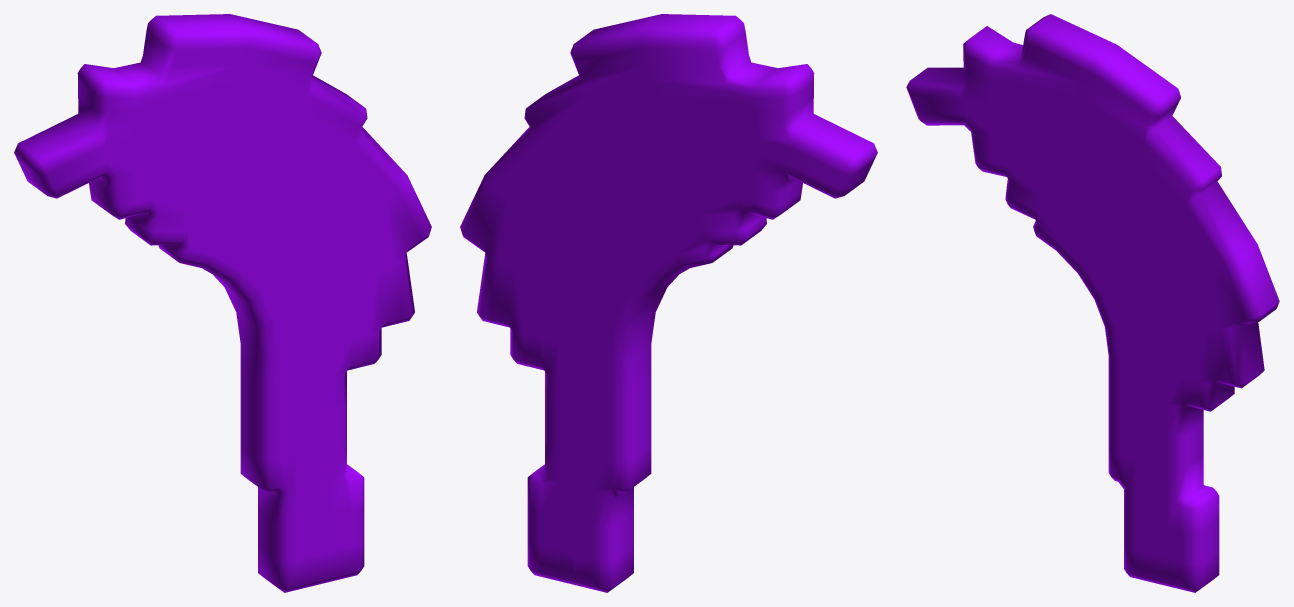
The model's file is OpticalPuzzle_4.FBX.
3 renders of one model, left to right at view 1: azimuth 30°, elevation 25°; view 2: azimuth 150°, elevation 25°; view 3: azimuth 330°, elevation 25°, orthographic. The views are drawn at different scales.
Visible parts, largest first — view 1: OpticalPuzzle_4; view 2: OpticalPuzzle_4; view 3: OpticalPuzzle_4.
Boxes of the visible parts, x1,y1,x2,y2 form: OpticalPuzzle_4: (14, 14, 431, 592); OpticalPuzzle_4: (460, 14, 877, 592); OpticalPuzzle_4: (906, 14, 1279, 592).
Bounding box in the file's own units: 1038 × 1468 × 125.
